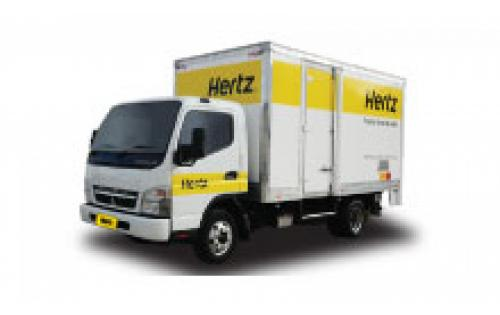Truck: (81, 48, 410, 262)
